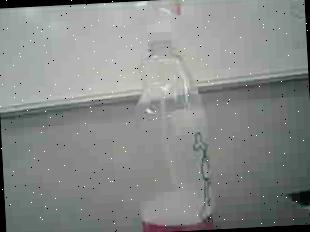hazard: (122, 0, 219, 232)
